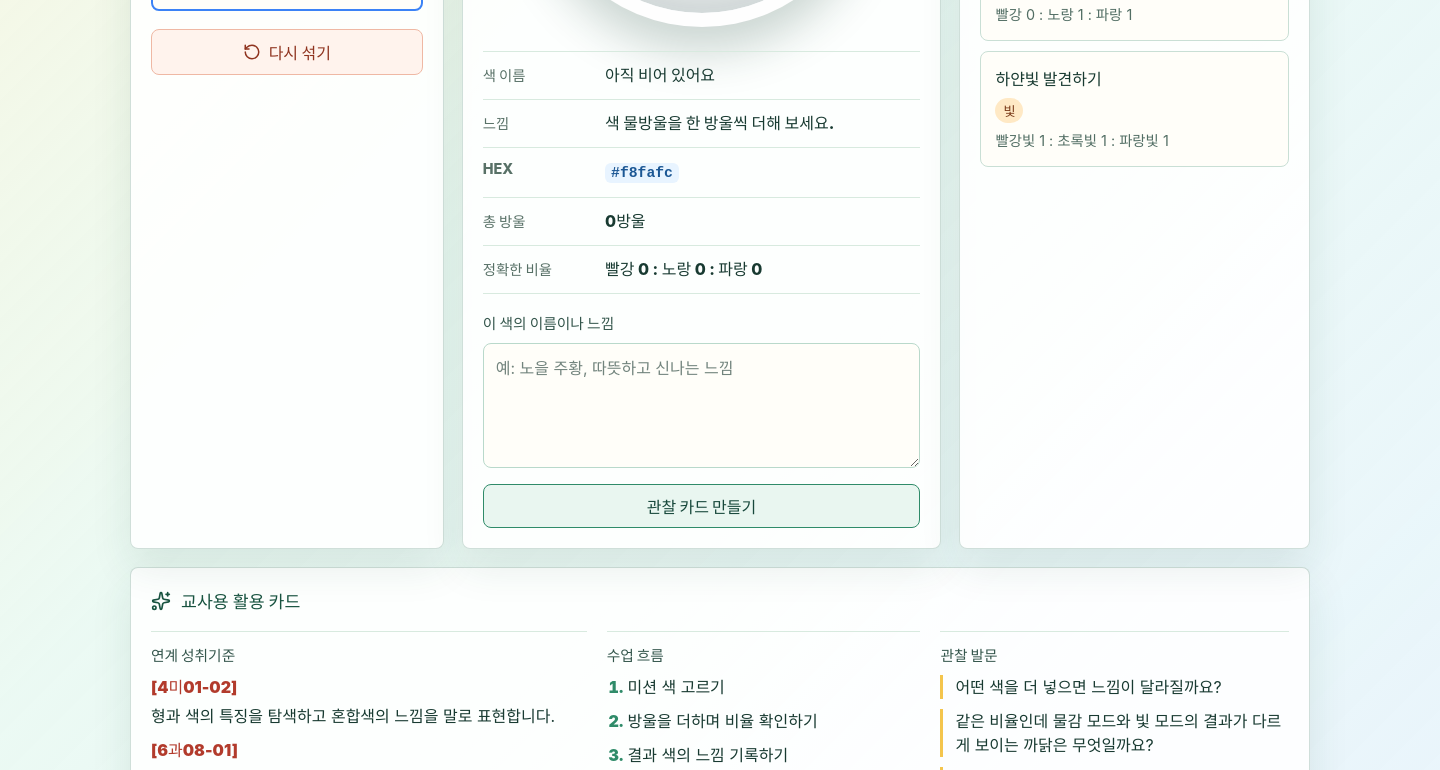
Test: App › lets students write and clear an observation note
(page scrolled)
Type "해 질 무렵 하늘색 같아요." into the text box labelled "이 색의 이름이나 느낌". click: (702, 406)
box: left=483, top=343, right=920, bottom=468
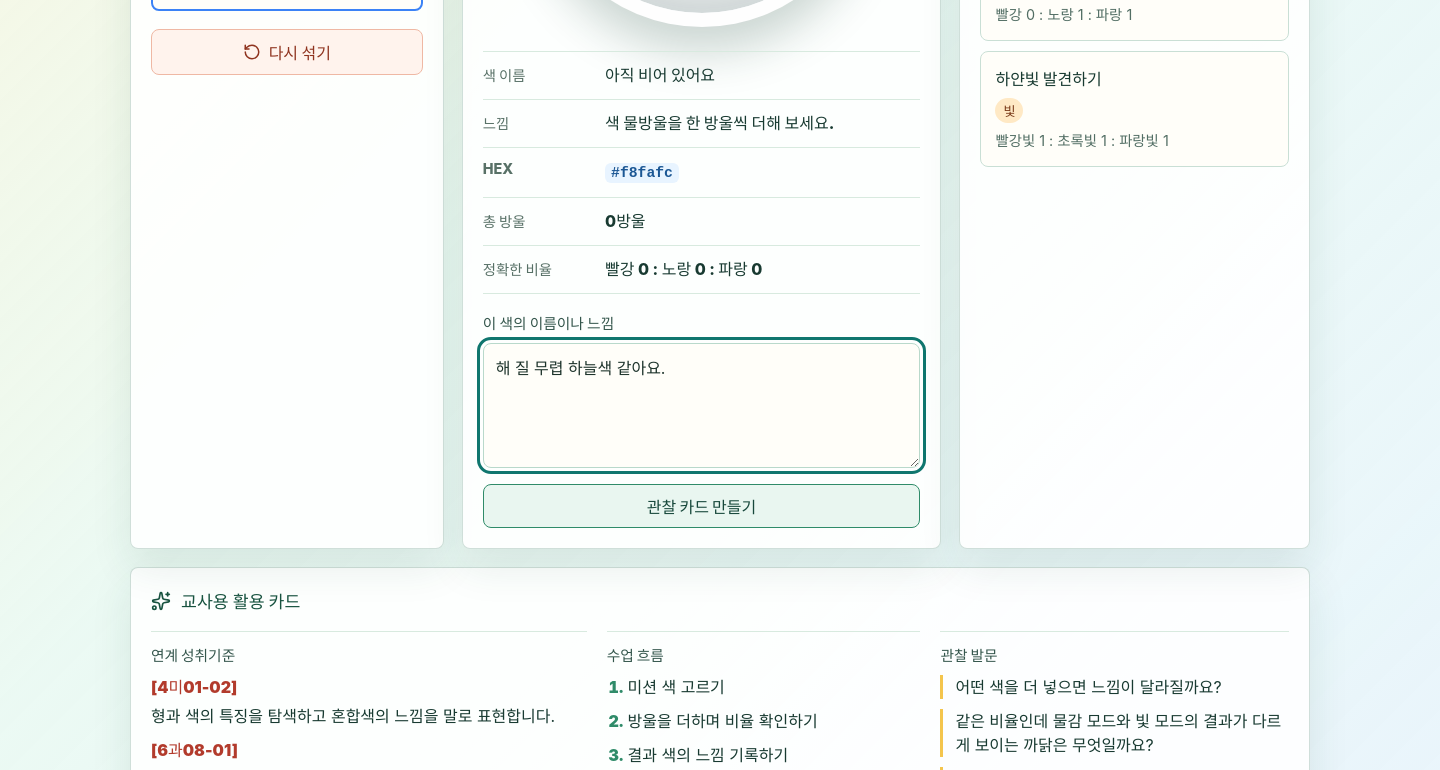
Click the button "다시 섞기". click: (287, 52)
box: left=151, top=29, right=423, bottom=75
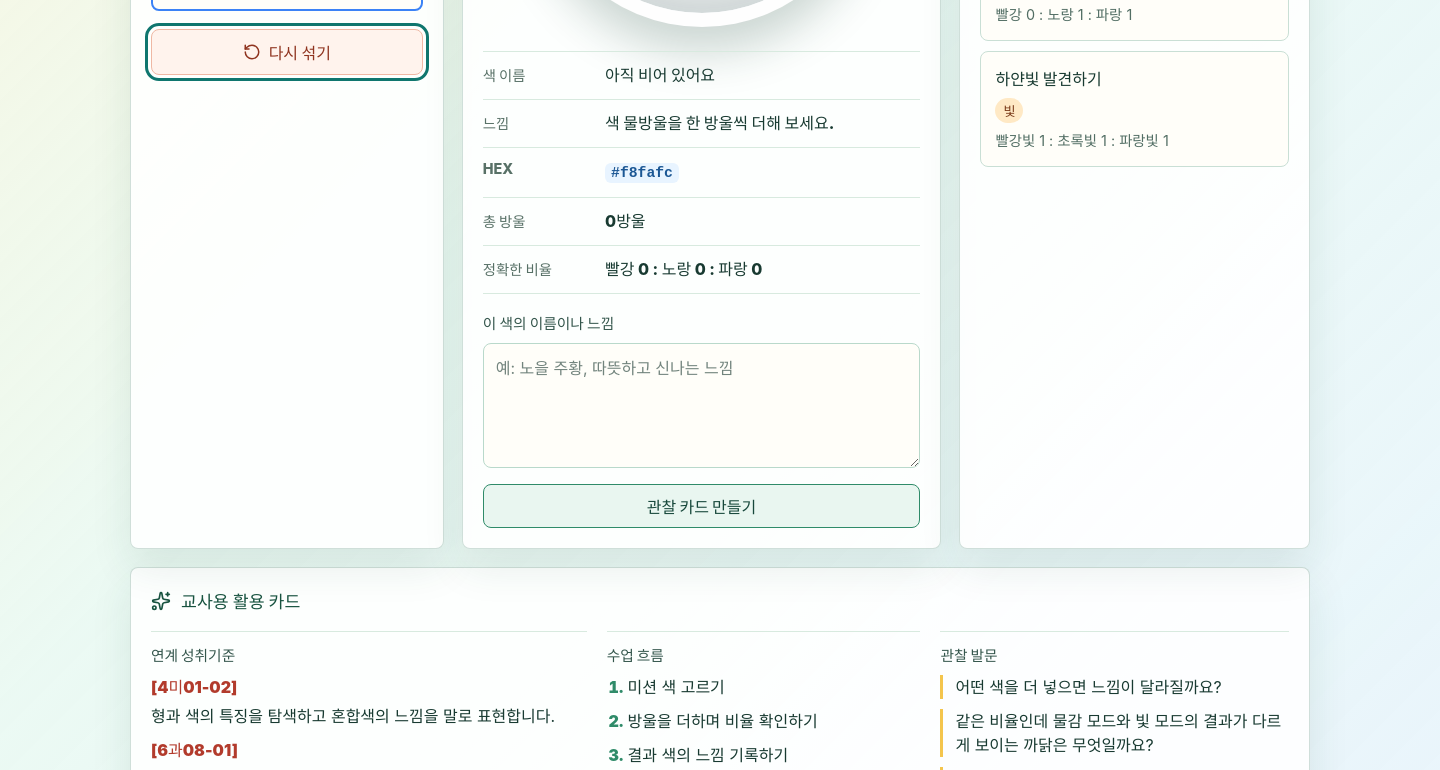
Expected: the text box labelled "이 색의 이름이나 느낌" is empty, left=483, top=343, right=920, bottom=468
